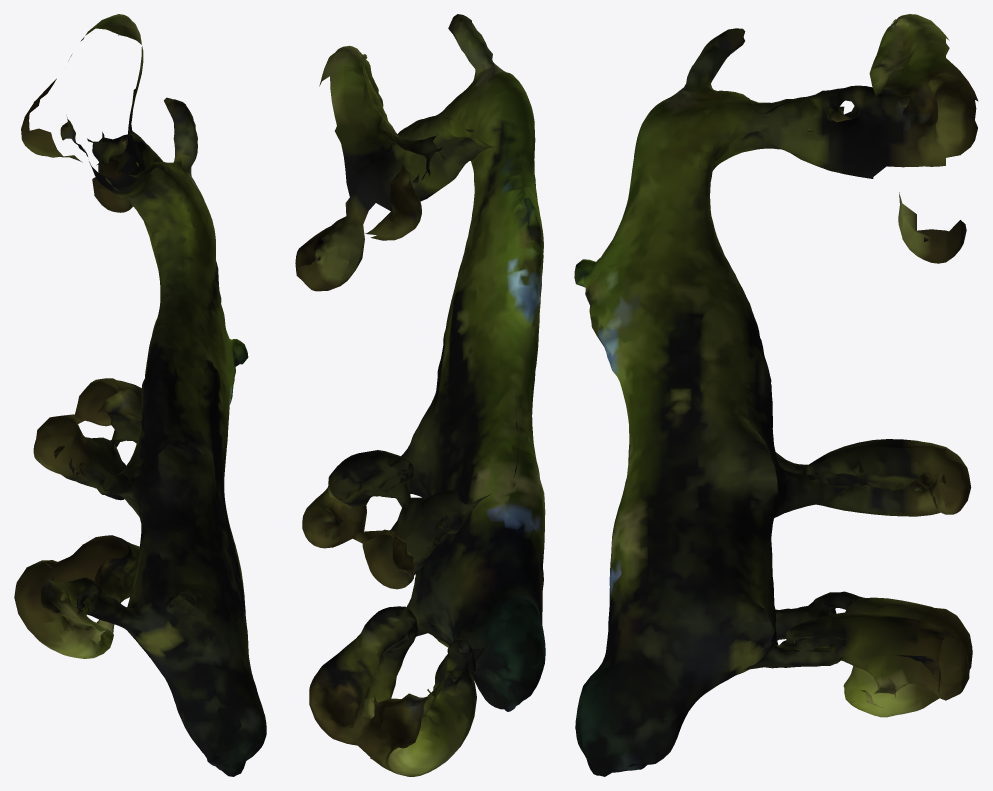
3 views of the same model, side by side, from view 1: azimuth 30°, elevation 25°; view 2: azimuth 150°, elevation 25°; view 3: azimuth 270°, elevation 25° (orthographic). The views are drawn at different scales.
Visible parts, largest first — view 1: 08d0c6dc-eb62-468b-9c22-1a870ad90135; view 2: 08d0c6dc-eb62-468b-9c22-1a870ad90135; view 3: 08d0c6dc-eb62-468b-9c22-1a870ad90135.
Part boxes in pixels (box(x1,y1,x2,y2)): 08d0c6dc-eb62-468b-9c22-1a870ad90135: box(14, 14, 266, 776); 08d0c6dc-eb62-468b-9c22-1a870ad90135: box(295, 14, 545, 776); 08d0c6dc-eb62-468b-9c22-1a870ad90135: box(574, 14, 978, 776).
Bounding box in the file's own units: 0.2058 × 1.01 × 0.4786.
